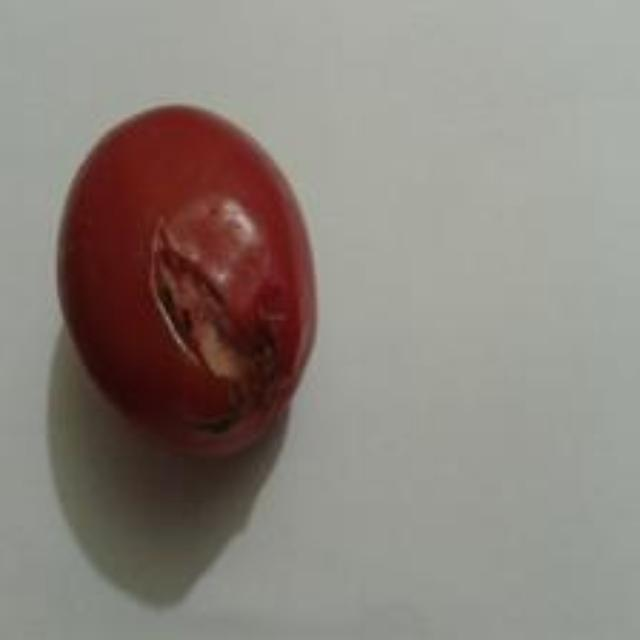defect: (51, 100, 325, 469)
